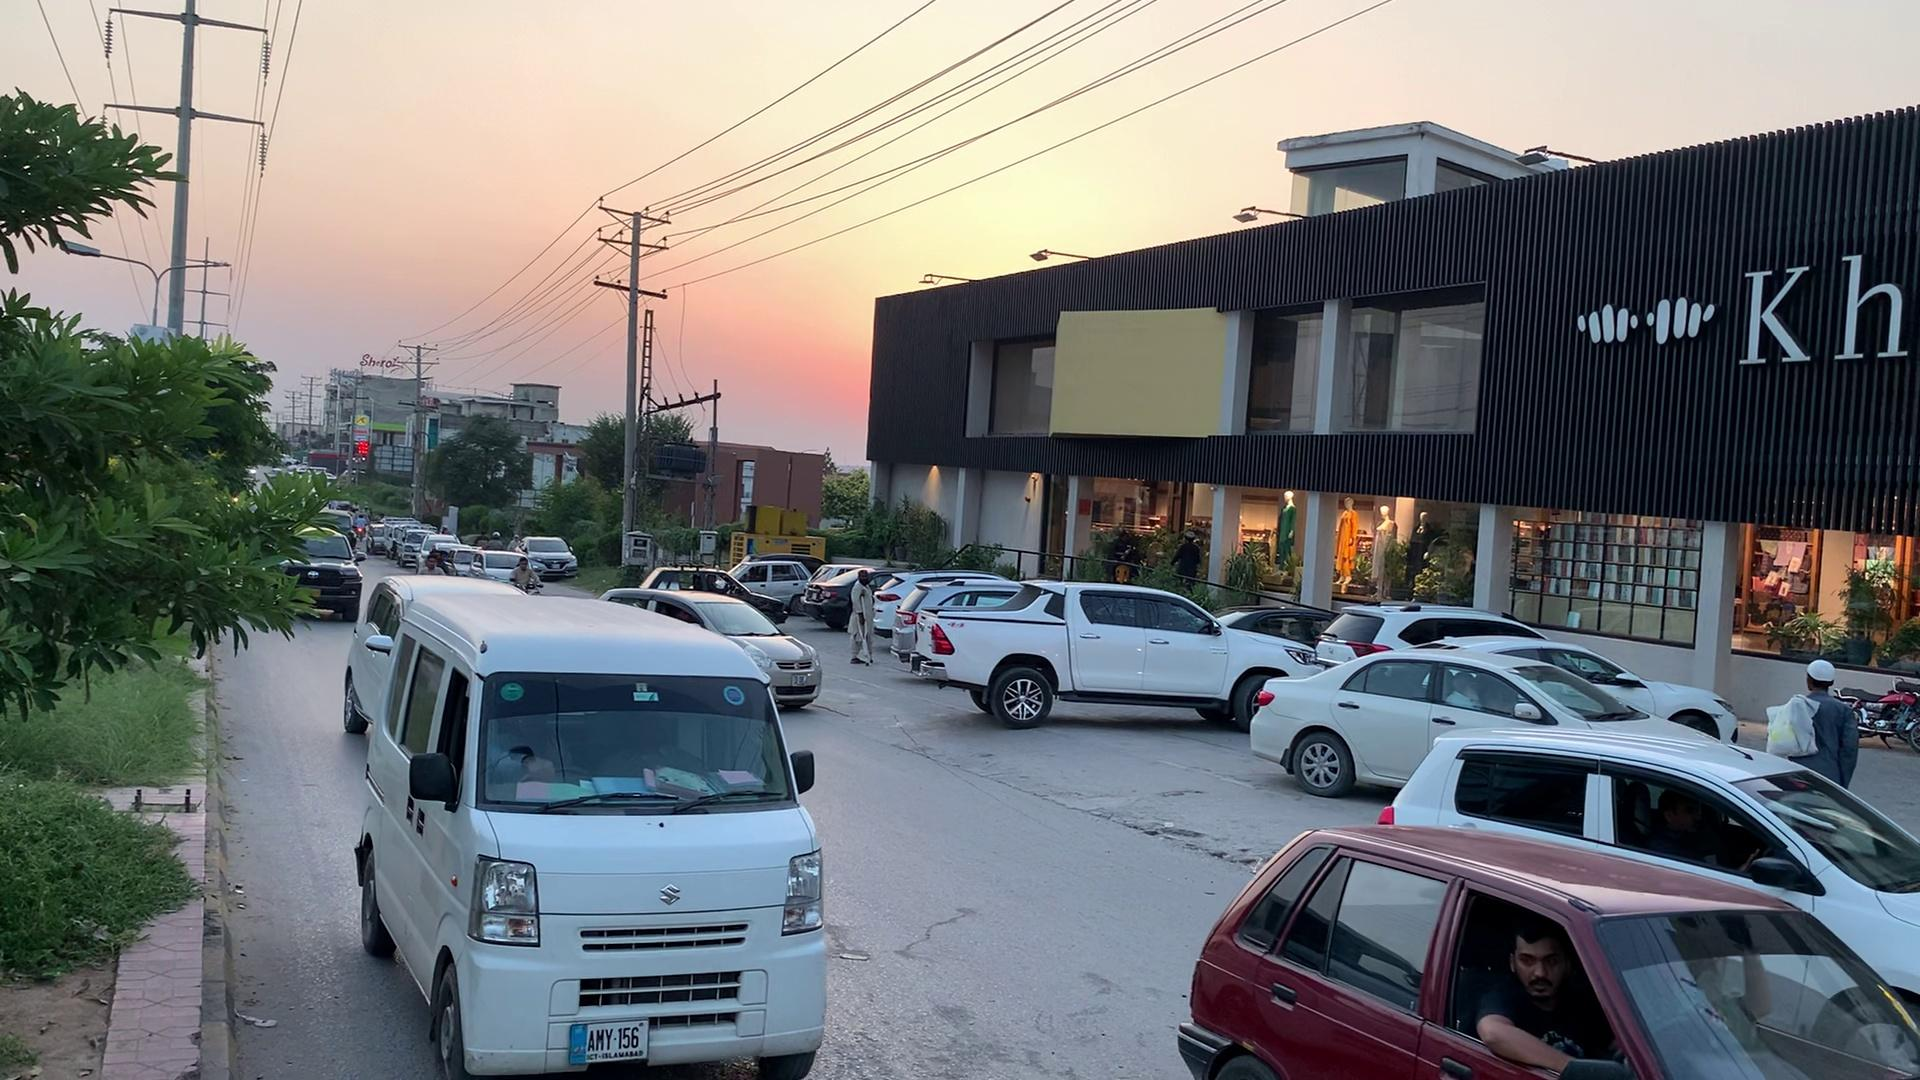windshield: (471, 644, 798, 836)
